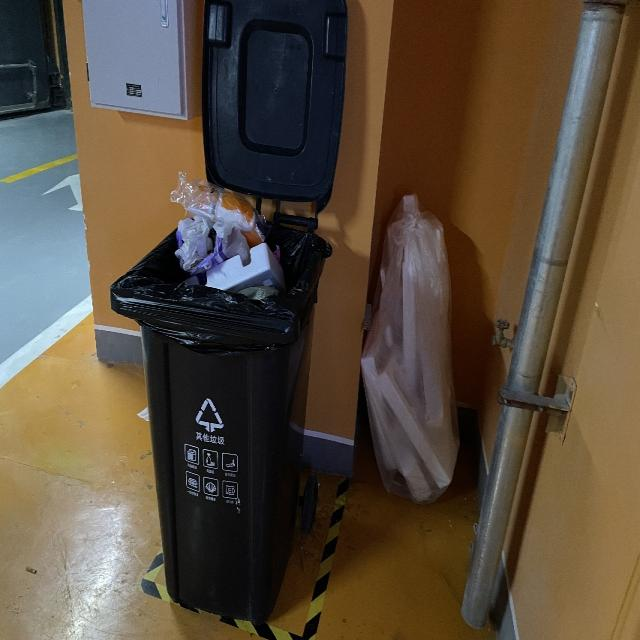overflow: (110, 171, 332, 622)
